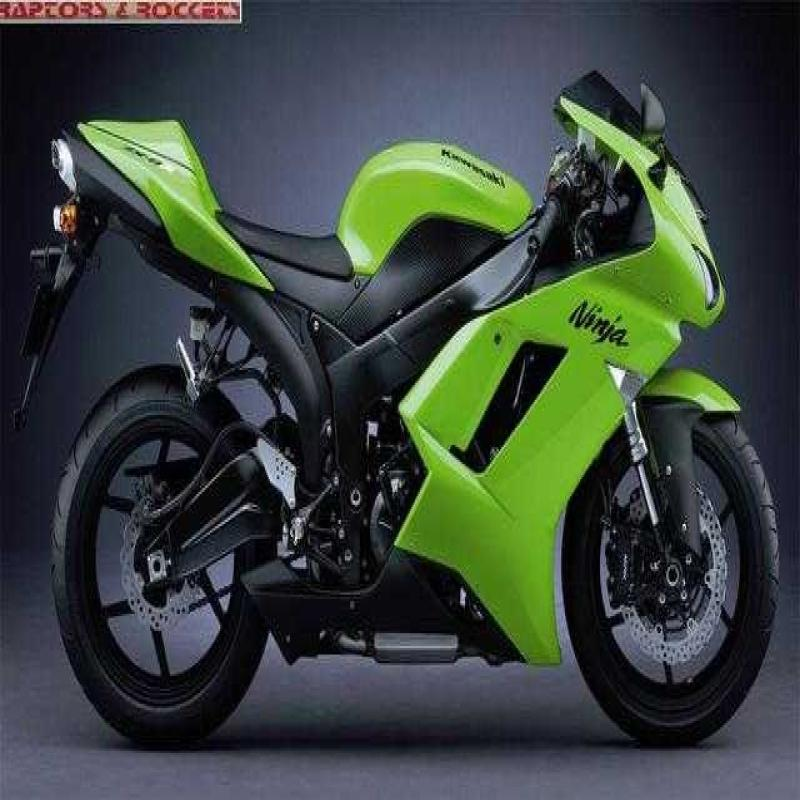bike: (0, 68, 798, 768)
